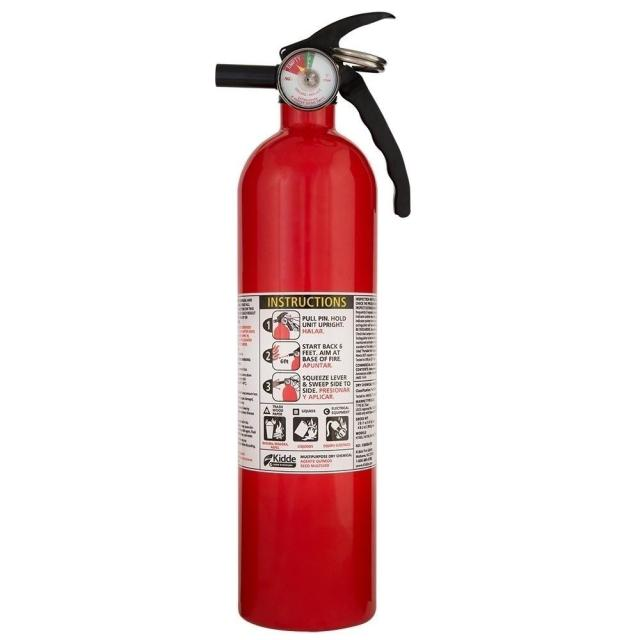fire_extinguisher: (209, 8, 413, 634)
